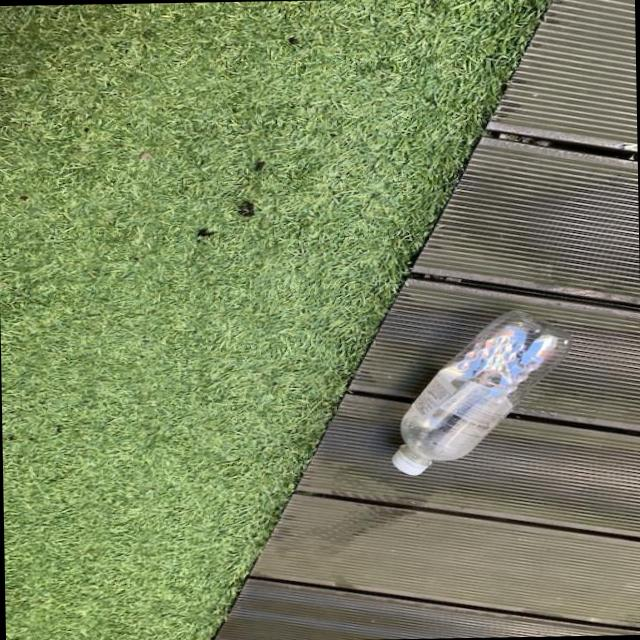plastic_bottle: (386, 308, 578, 476)
